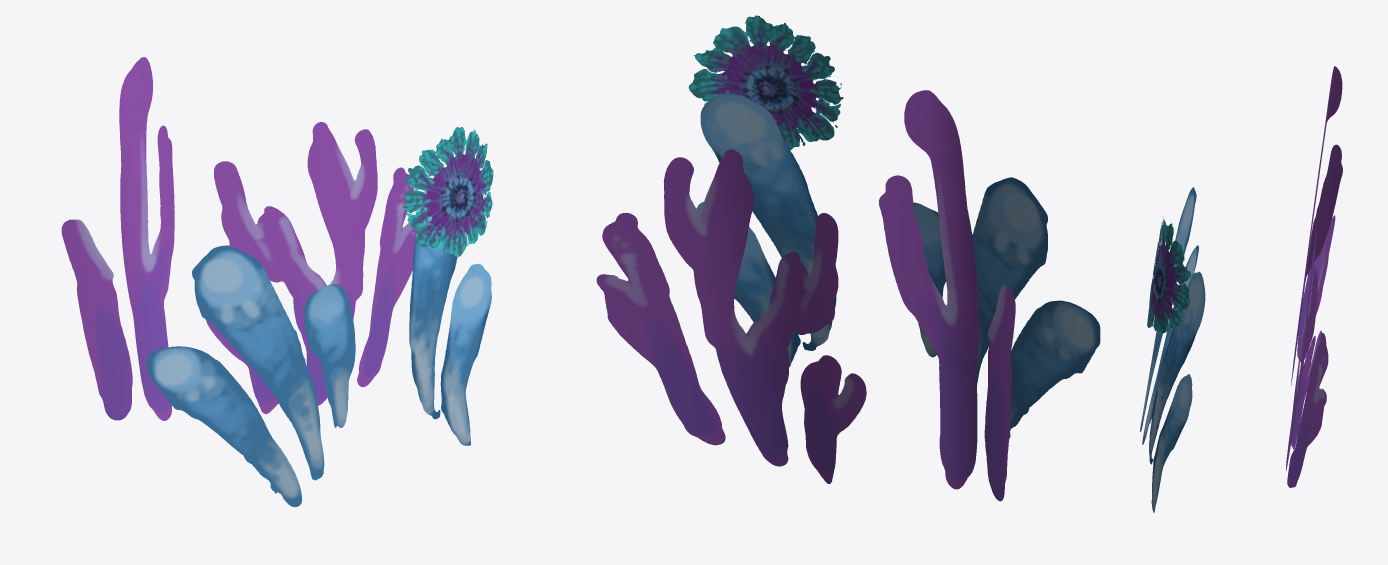
File: flowers_animated_04.fbx
The picture shows the model from 3 angles, left to right: view 1: azimuth 30°, elevation 25°; view 2: azimuth 150°, elevation 25°; view 3: azimuth 270°, elevation 25°; orthographic projection. The views are drawn at different scales.
Visible parts, largest first — view 1: blueplant1, purpleplant2, purpleplant1, flower1; view 2: purpleplant2, blueplant1, purpleplant1, flower1; view 3: blueplant1, purpleplant2, purpleplant1, flower1.
Part boxes in pixels (box(x1,y1,x2,y2)): blueplant1: box(146, 167, 491, 507); purpleplant2: box(206, 122, 417, 413); purpleplant1: box(61, 57, 174, 420); flower1: box(402, 127, 493, 256); purpleplant2: box(596, 149, 866, 483); blueplant1: box(696, 93, 1100, 441); purpleplant1: box(879, 90, 1015, 501); flower1: box(688, 15, 843, 149); blueplant1: box(1140, 187, 1205, 512); purpleplant2: box(1286, 215, 1335, 487); purpleplant1: box(1291, 66, 1342, 385); flower1: box(1147, 217, 1191, 333).
Size of the model in its own units: 0.6472 by 0.6576 by 0.3621.
